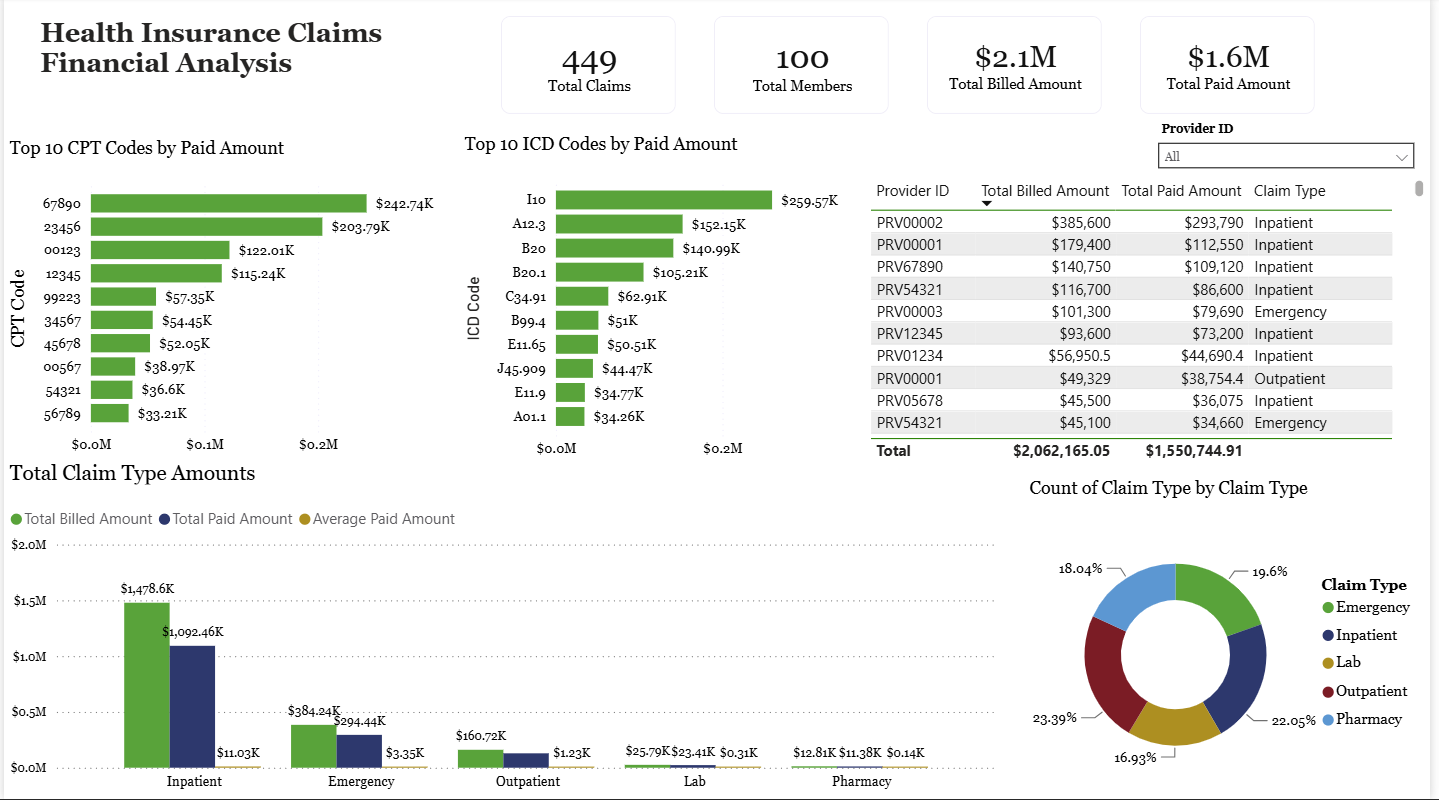

The page's visual inventory and layout, read from the dashboard file:
{"tool":"powerbi","page":{"name":"Page 1","canvas":[1280,720],"ordinal":0},"visuals":[{"type":"textbox","box":[0,0,1280.4,110.6],"z":0},{"type":"clusteredColumnChart","title":"Total Claim Type Amounts","fields":{"Y":["Sum(claims.billed_amount)","Sum(claims.paid_amount)","Avg(claims.paid_amount)"],"Category":["claims.claim_type"]},"box":[0,416.8,897.8,303.7],"z":1000},{"type":"clusteredBarChart","title":"Top 10 CPT Codes by Paid Amount","fields":{"Category":["claims.cpt_code"],"Y":["Sum(claims.paid_amount)"]},"box":[0,125.7,408.5,291.8],"z":2000},{"type":"clusteredBarChart","title":"Top 10 ICD Codes by Paid Amount","fields":{"Category":["claims.icd_code"],"Y":["Sum(claims.paid_amount)"]},"box":[408.5,122.1,363.6,299],"z":3000},{"type":"cardVisual","fields":{"Data":["Count(claims.claim_id)"]},"box":[428.9,0,191,122.4],"z":4000},{"type":"cardVisual","fields":{"Data":["Count(claims.member_id)"]},"box":[620.3,0,191,122.4],"z":5000},{"type":"cardVisual","fields":{"Data":["Sum(claims.billed_amount)"]},"box":[811.6,0,191.3,122.4],"z":6000},{"type":"cardVisual","fields":{"Data":["Sum(claims.paid_amount)"]},"box":[1002.9,0,191,122],"z":7000},{"type":"tableEx","fields":{"Values":["claims.provider_id","Sum(claims.billed_amount)","Sum(claims.paid_amount)","claims.claim_type"]},"box":[772.1,158.9,507.8,262.1],"z":8000},{"type":"donutChart","fields":{"Y":["Sum(claims.claim_id)"],"Series":["claims.claim_type"]},"box":[915.7,430.9,361,289],"z":9000},{"type":"slicer","fields":{"Values":["claims.provider_id"]},"box":[1026.1,106.8,250.3,51.7],"z":10000}]}

Visuals, with their boxes in screenshot pixels (x1, y1, x2, y2), scaled from the page's 1280x720 canvas onto the 1439x800 screenshot:
textbox: region(0, 0, 1438, 123)
"Total Claim Type Amounts" clusteredColumnChart: region(0, 463, 1009, 799)
"Top 10 CPT Codes by Paid Amount" clusteredBarChart: region(0, 140, 459, 464)
"Top 10 ICD Codes by Paid Amount" clusteredBarChart: region(459, 136, 868, 468)
cardVisual - Count(claims.claim_id): region(482, 0, 697, 136)
cardVisual - Count(claims.member_id): region(697, 0, 912, 136)
cardVisual - Sum(claims.billed_amount): region(912, 0, 1127, 136)
cardVisual - Sum(claims.paid_amount): region(1127, 0, 1342, 136)
tableEx - claims.provider_id x Sum(claims.billed_amount): region(868, 177, 1438, 468)
donutChart - Sum(claims.claim_id) x claims.claim_type: region(1029, 479, 1435, 799)
slicer - claims.provider_id: region(1154, 119, 1435, 176)
